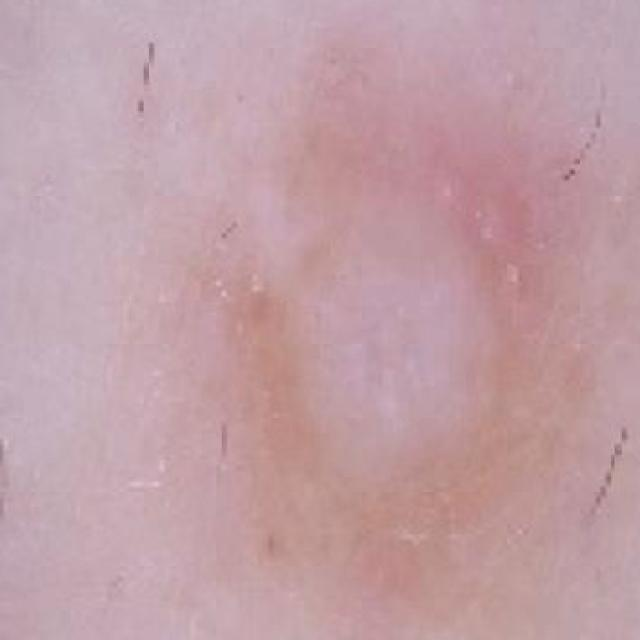DF: (100, 9, 625, 640)
